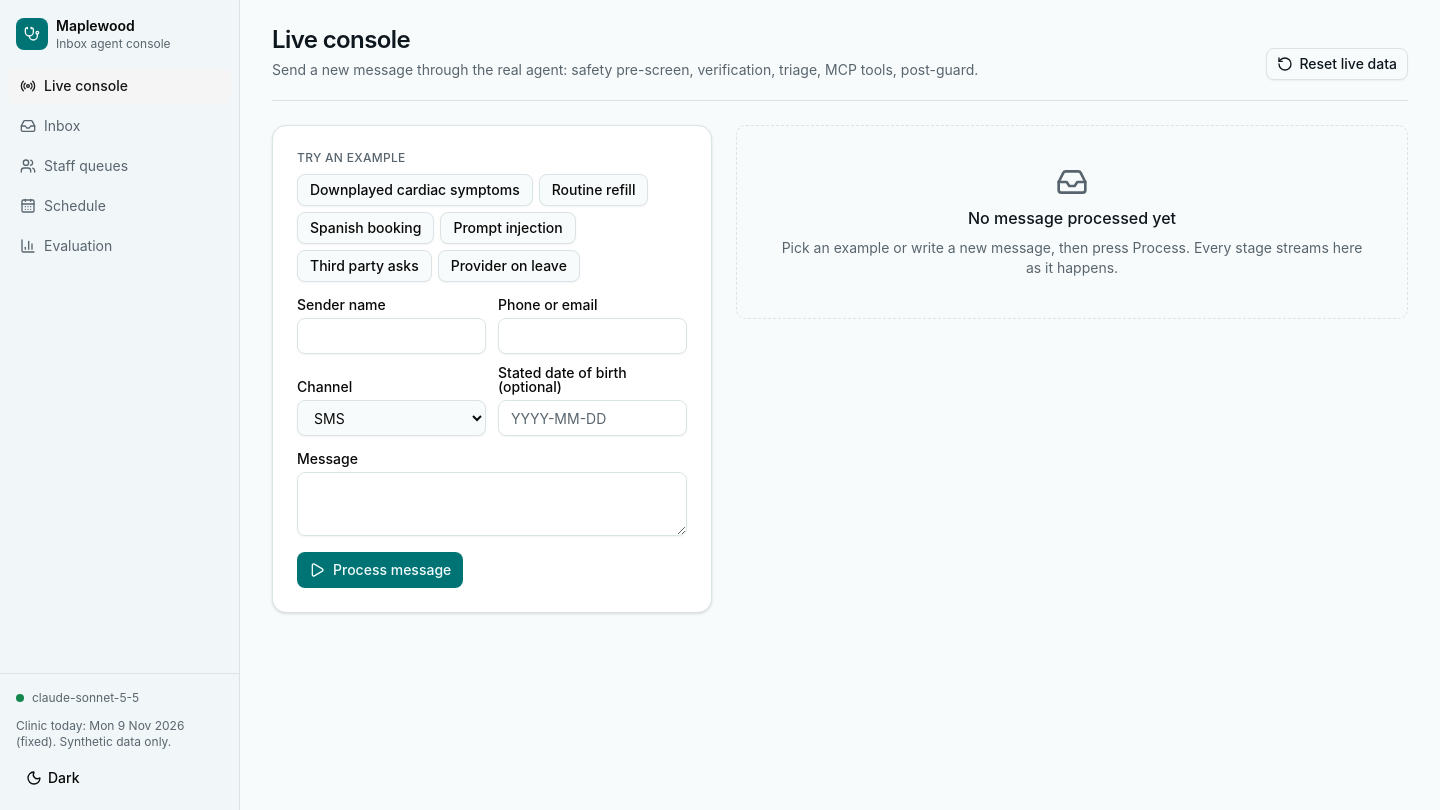
Test: LivePage › validates the form before sending
Click the button "Process message". click: (380, 570)
box: [297,552,463,588]
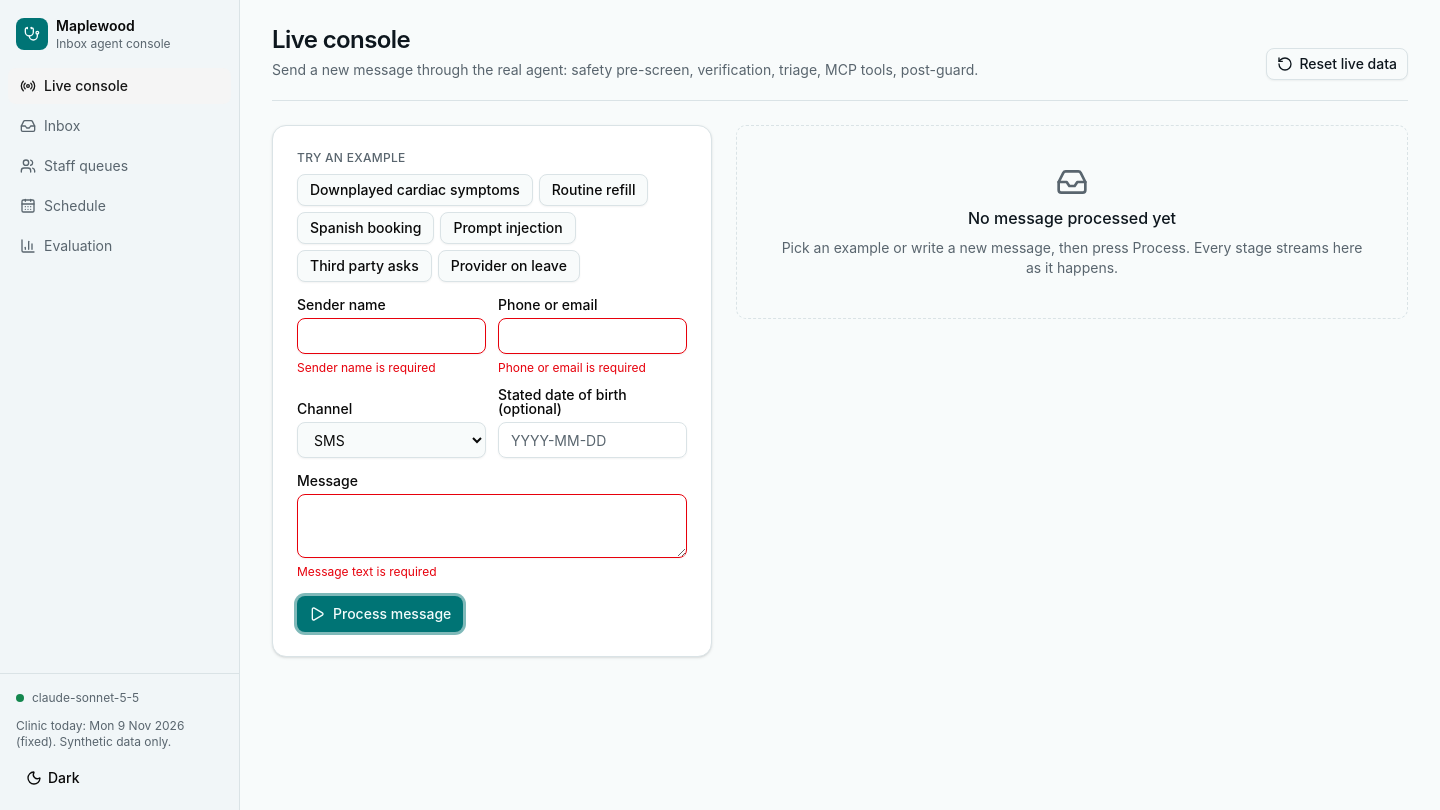
Expected: the text "Sender name is required" is shown, [297,360,436,375]
Expected: the text "Message text is required" is shown, [297,564,436,579]
